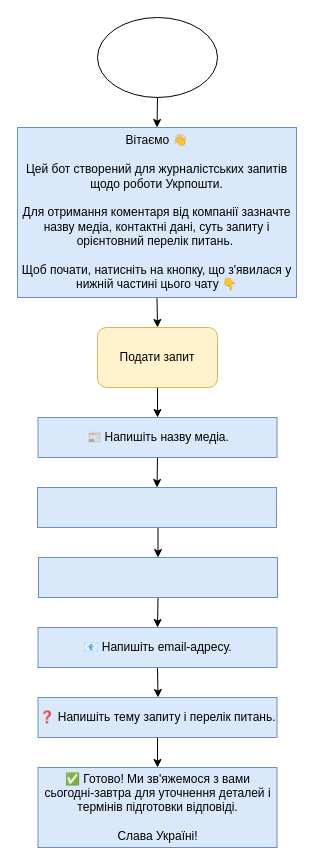
Image size: 314x865. Some labels were removed from this diagram. The centre of each missing label's shape, as x and y in pixels:
"Запуск" goes at pixel 157 57.
"👤 Напишіть ваші ім'я та прізвище." goes at pixel 156 507.
"🔢 Напишіть номер телефону." goes at pixel 158 577.
